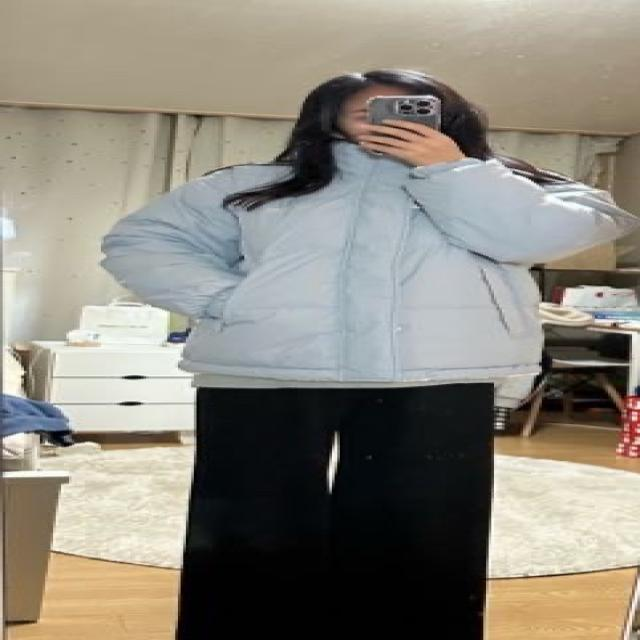padding: (99, 142, 630, 384)
trainingpants: (171, 378, 495, 640)
